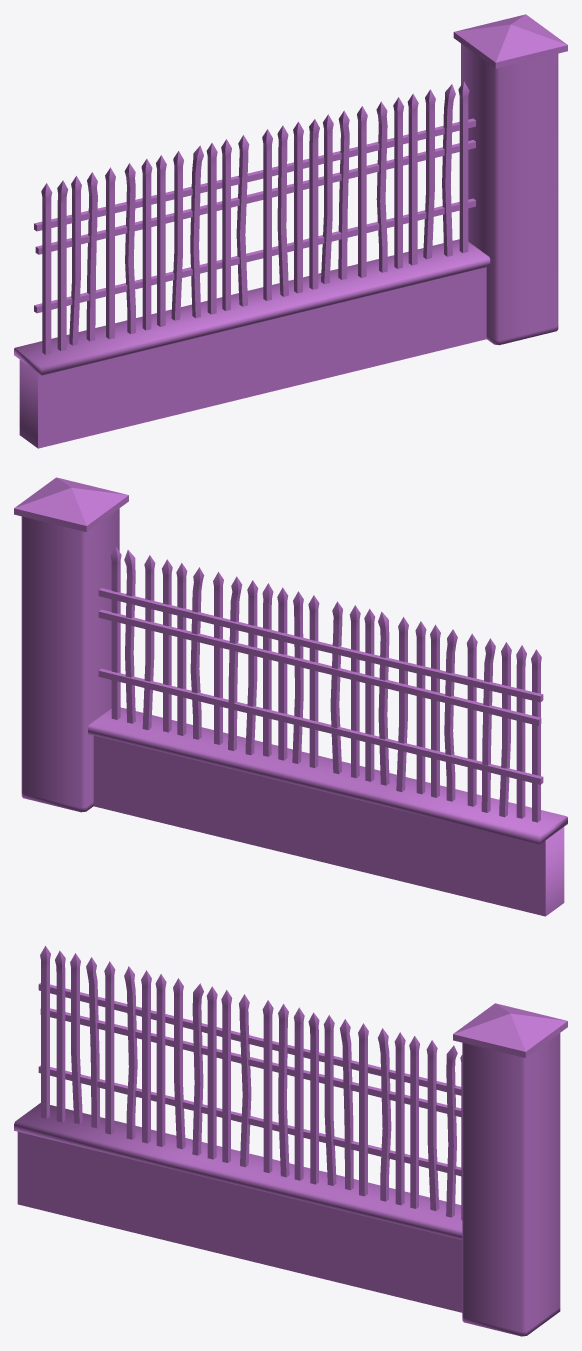
Rendered from Struct_Fence1_Mid_B.fbx.
3 views of the same model, one above another, from view 1: azimuth 30°, elevation 25°; view 2: azimuth 150°, elevation 25°; view 3: azimuth 330°, elevation 25° (orthographic).
Parts seen in each view (by area): view 1: Struct_Fence1_Mid_B_LOD0; view 2: Struct_Fence1_Mid_B_LOD0; view 3: Struct_Fence1_Mid_B_LOD0.
Boxes of the visible parts, box(x1,y1,x2,y2) form: Struct_Fence1_Mid_B_LOD0: box(14, 14, 567, 448); Struct_Fence1_Mid_B_LOD0: box(14, 477, 567, 916); Struct_Fence1_Mid_B_LOD0: box(14, 946, 567, 1336).
Size of what is drawn, in the model's own units: 6.44 by 3.58 by 0.9063.
